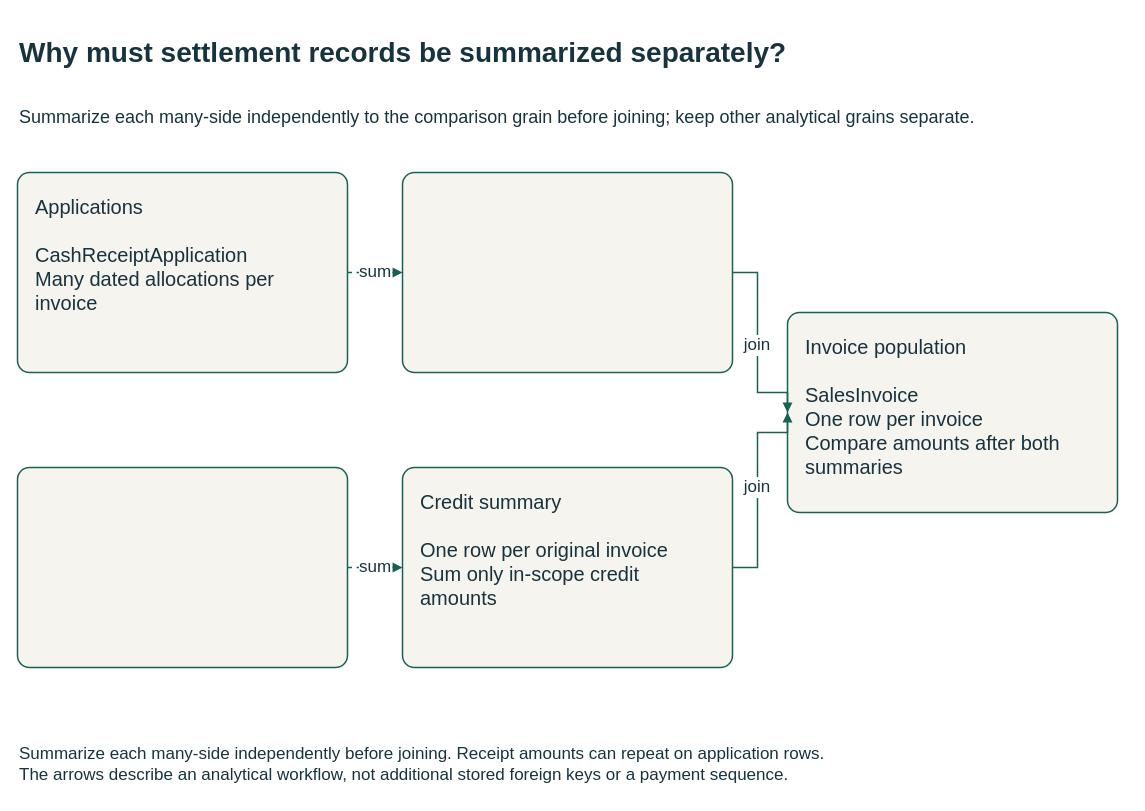
Some shapes in this 1145 by 811 pixel diagram are drawn without their labels. Each missing label, with the centre of its shape:
Application summary One row per SalesInvoiceID Sum only in-scope AppliedAmount: (x=567, y=272)
Credits CreditMemo Use OriginalSalesInvoiceID and the cutoff: (x=182, y=567)
